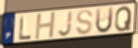H: (34, 10, 57, 41)
J: (57, 10, 74, 38)
L: (19, 15, 32, 42)
Q: (114, 5, 133, 33)
S: (75, 9, 94, 37)
U: (94, 6, 114, 35)
